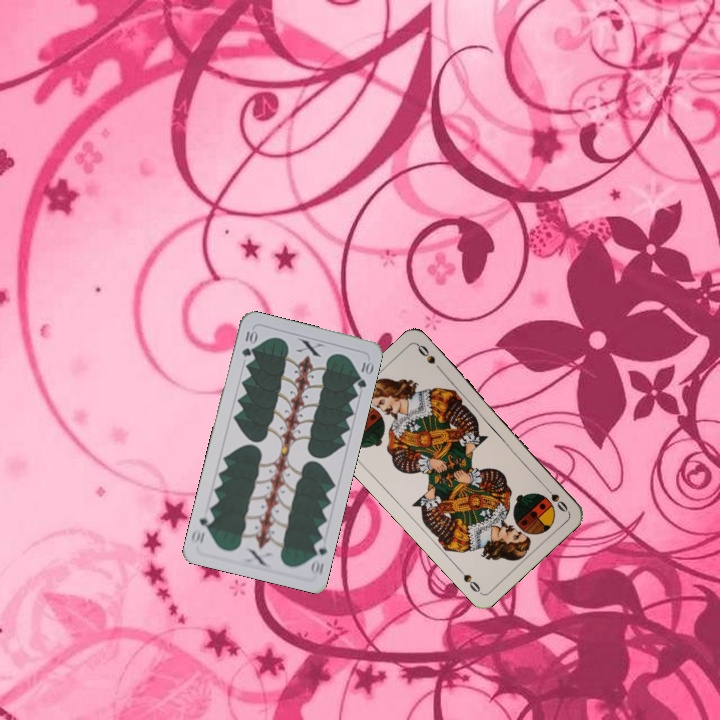G10: (307, 536, 330, 578), (238, 326, 259, 360)
SO: (540, 481, 570, 515)
